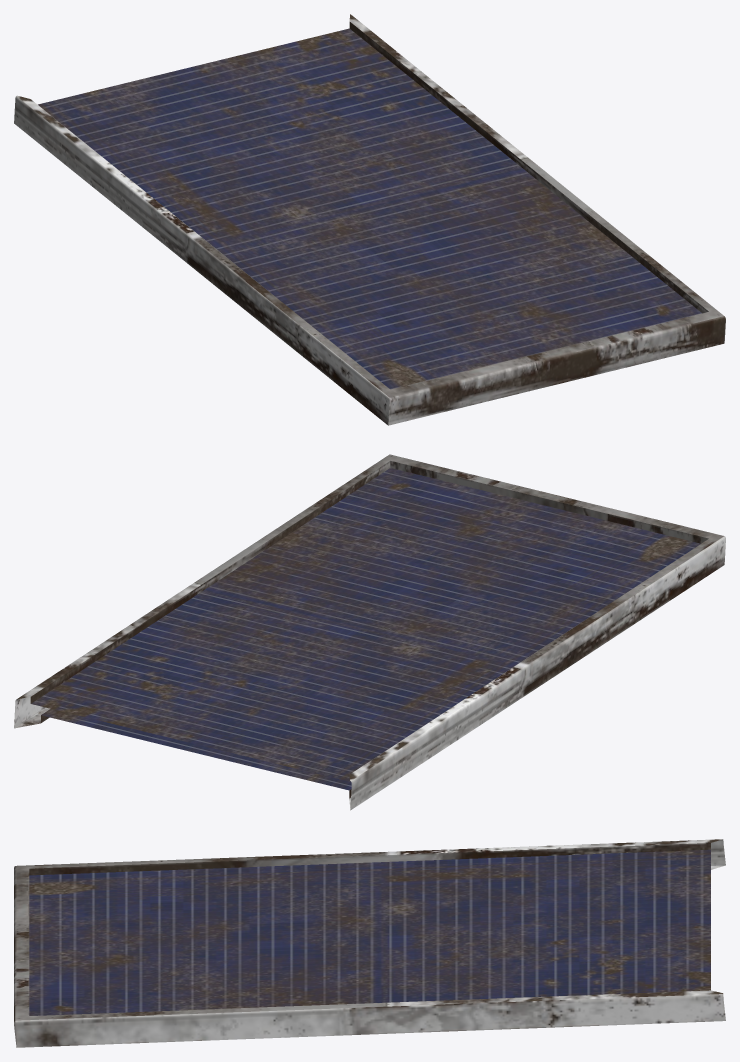
File: satelite_02_panel_02.obj
3 views of the same model, one above another, from view 1: azimuth 30°, elevation 25°; view 2: azimuth 150°, elevation 25°; view 3: azimuth 270°, elevation 25° (orthographic). The views are drawn at different scales.
Visible parts, largest first — view 1: orbital2_panel_1; view 2: orbital2_panel_1; view 3: orbital2_panel_1.
Boxes of the visible parts, box(x1,y1,x2,y2) form: orbital2_panel_1: box(14, 14, 725, 425); orbital2_panel_1: box(14, 454, 725, 810); orbital2_panel_1: box(14, 839, 725, 1047).
Bounding box in the file's own units: 0.3532 × 0.057 × 0.6831.
1 material, 1 textured.
